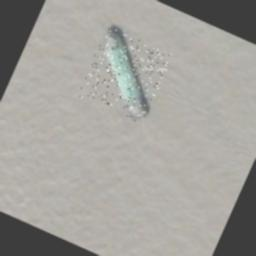boat: (76, 26, 173, 124)
